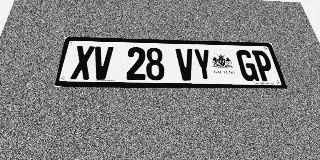2: (126, 47, 145, 80)
8: (146, 47, 165, 80)
G: (235, 50, 260, 81)
P: (251, 50, 277, 81)
V: (91, 46, 114, 80), (175, 48, 196, 81)
X: (70, 46, 95, 80)
Y: (193, 49, 214, 81)
